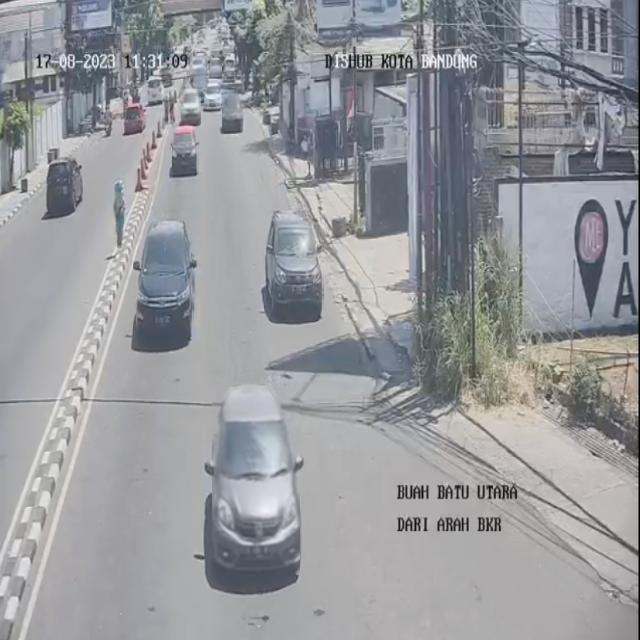cars: (212, 388, 300, 573), (133, 221, 193, 339), (265, 210, 323, 317), (172, 128, 198, 173), (181, 89, 201, 124), (223, 95, 242, 131), (204, 83, 221, 111), (190, 57, 206, 80), (210, 60, 222, 77)
